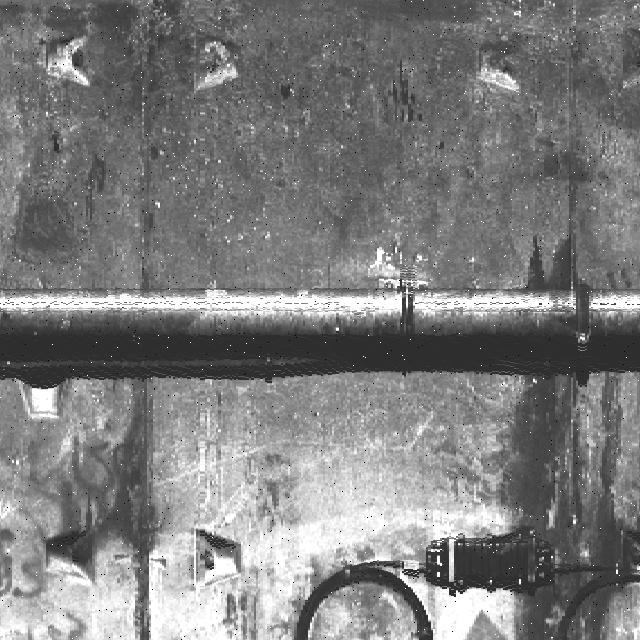leakage: (489, 378, 640, 631), (86, 373, 189, 639), (507, 225, 611, 298)
